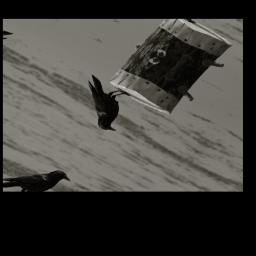Crow: (59, 72, 145, 136)
